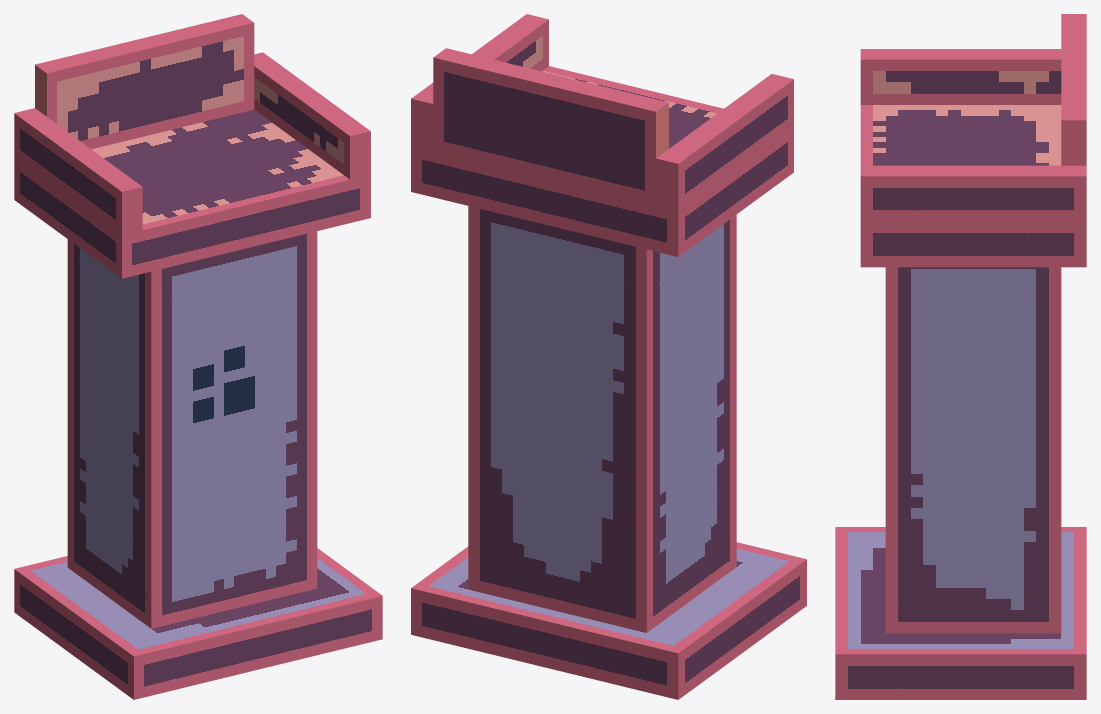
The model's file is stand.gltf.
3 renders of one model, left to right at view 1: azimuth 30°, elevation 25°; view 2: azimuth 150°, elevation 25°; view 3: azimuth 270°, elevation 25°, orthographic. The views are drawn at different scales.
Parts seen in each view (by area): view 1: cuboid; view 2: cuboid; view 3: cuboid.
Boxes of the visible parts, <box> form: cuboid: <box>14,14,382,699</box>; cuboid: <box>411,14,806,699</box>; cuboid: <box>835,14,1086,699</box>.
Size of the model in its own units: 0.75 by 1.56 by 0.625.
Materials: 1 (1 with a texture image).
